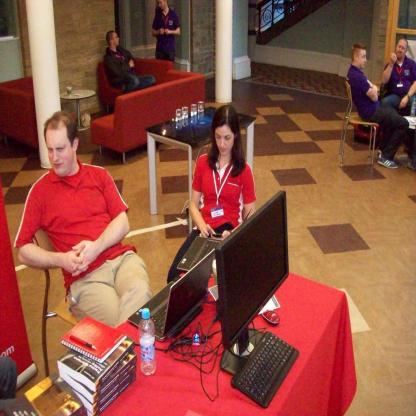board: (128, 248, 214, 342), (175, 207, 252, 279), (136, 308, 157, 380), (68, 86, 73, 98)
